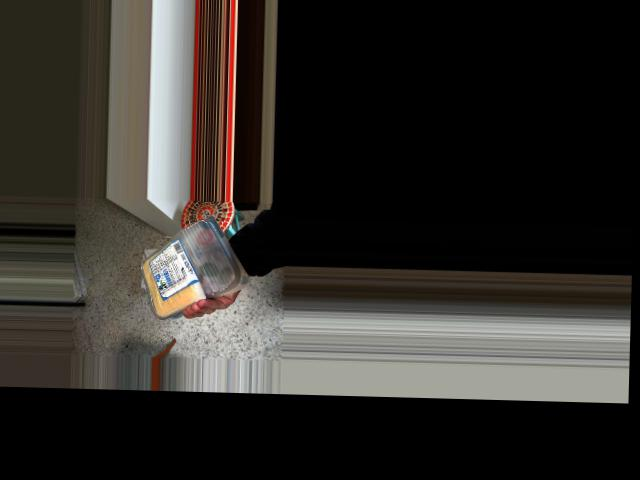cheese: (129, 212, 238, 309)
